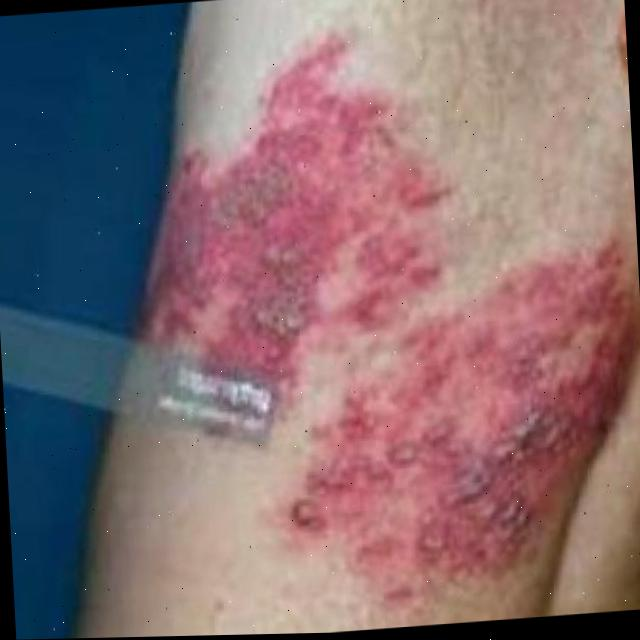Shingles: (275, 295, 640, 583), (133, 28, 424, 350)
